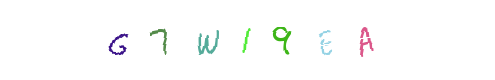7: (129, 0, 209, 80)
9: (216, 0, 296, 80)
A: (325, 0, 405, 80)
E: (233, 0, 313, 80)
G: (78, 0, 158, 80)
I: (207, 0, 287, 80)
W: (161, 0, 241, 80)
